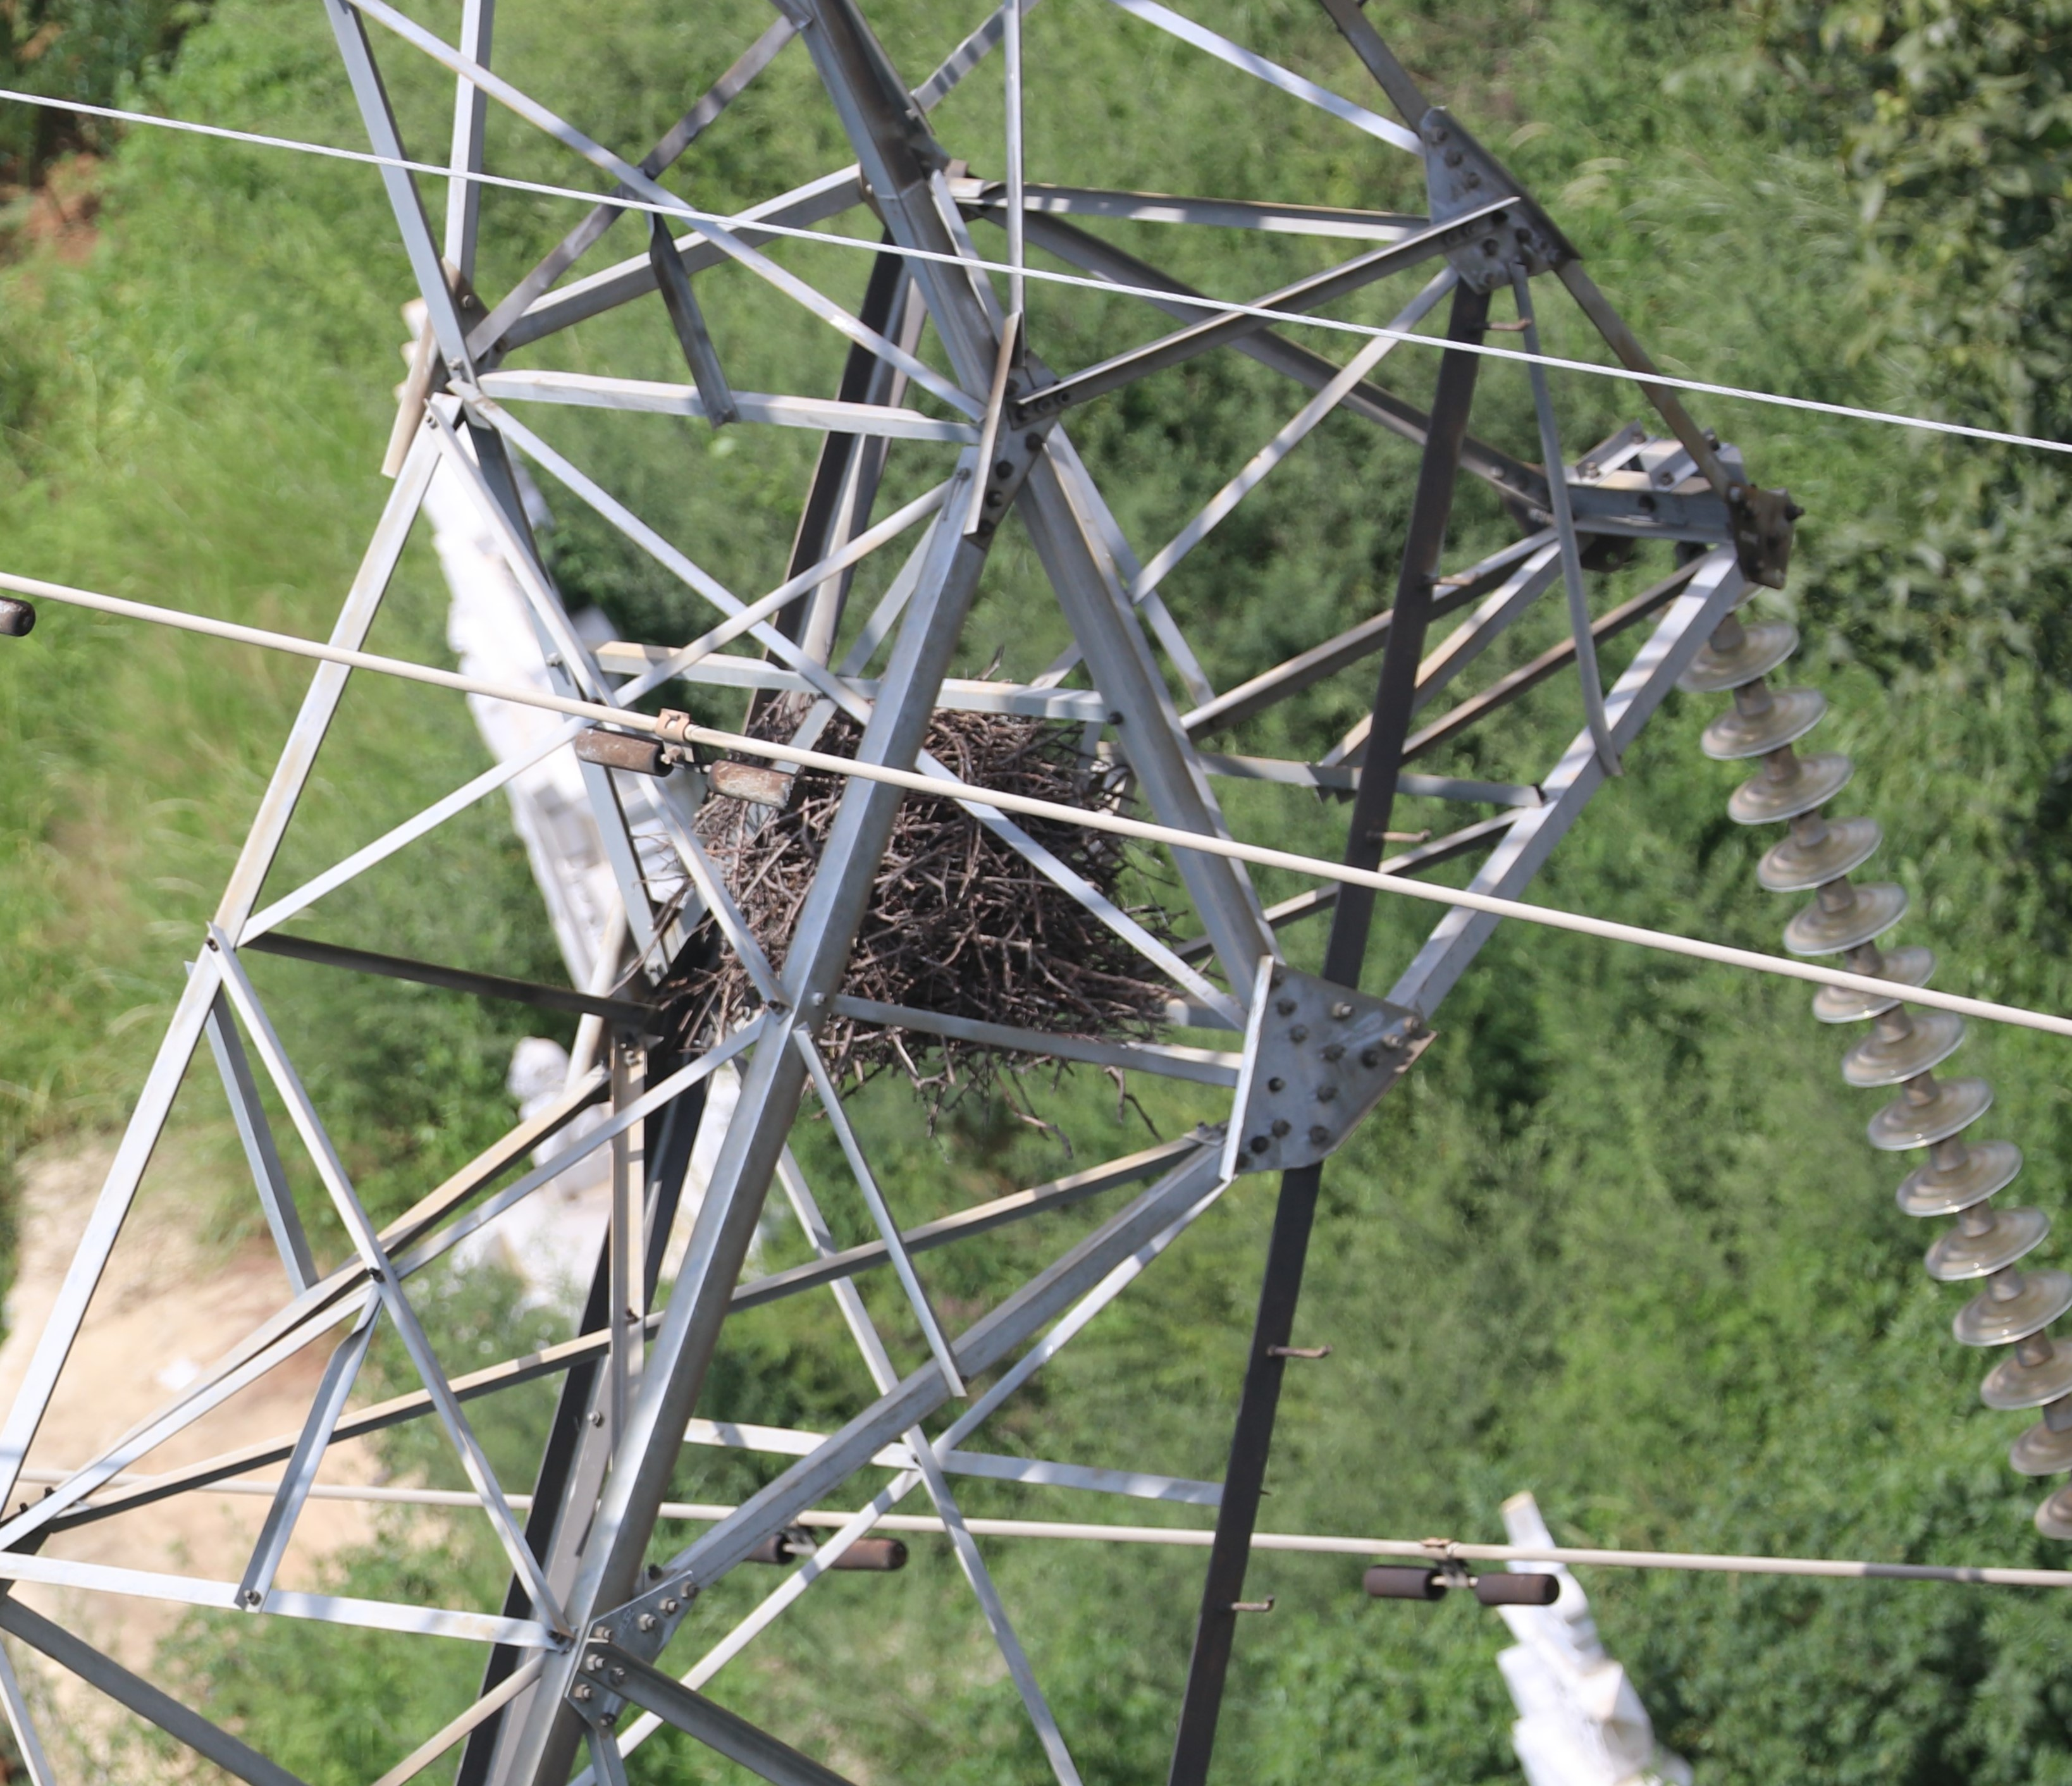niaowo: (655, 666, 1161, 1097)
